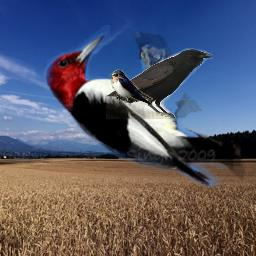Crow: (106, 48, 213, 119)
Swallow: (109, 69, 153, 106)
Woodpecker: (23, 25, 251, 196)
